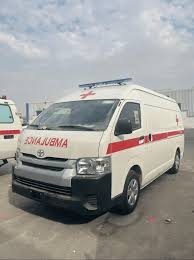Ambulance: (10, 74, 186, 217)
